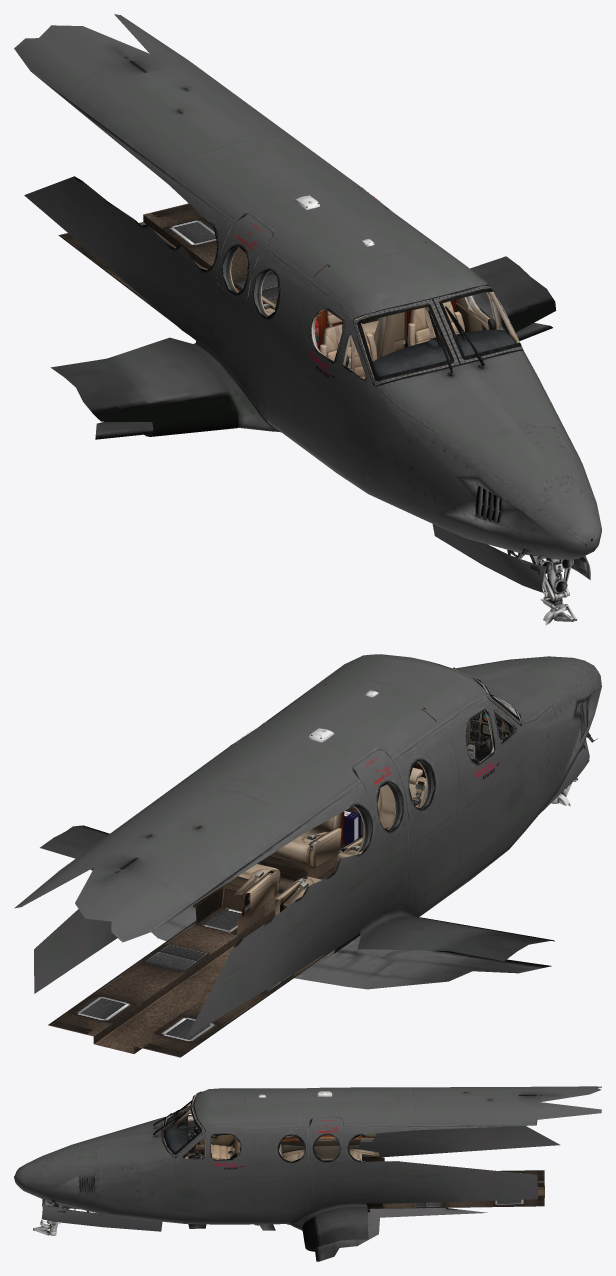
Rendered from turboprop.glb.
3 renders of one model, top to bottom at view 1: azimuth 30°, elevation 25°; view 2: azimuth 150°, elevation 25°; view 3: azimuth 270°, elevation 25°, orthographic. The views are drawn at different scales.
Visible parts, largest first — view 1: Object_50, Object_76, Object_58, Object_68; view 2: Object_50, Object_58, Object_76, Object_82; view 3: Object_50, Object_58, Object_76, Object_68.
Part boxes in pixels (x1,y1,x2,y2): Object_50: (14,14,601,592); Object_76: (311,242,520,381); Object_58: (58,187,424,358); Object_68: (526,554,577,625); Object_50: (14,654,601,1037); Object_58: (48,685,436,1057); Object_76: (325,666,547,849); Object_82: (466,712,513,763); Object_50: (14,1086,601,1261); Object_58: (279,1133,544,1212); Object_76: (163,1094,240,1159); Object_68: (33,1199,70,1235).
Size of the model in its own units: 4.41 by 2.27 by 8.53.
Materials: 20 (19 with a texture image).
